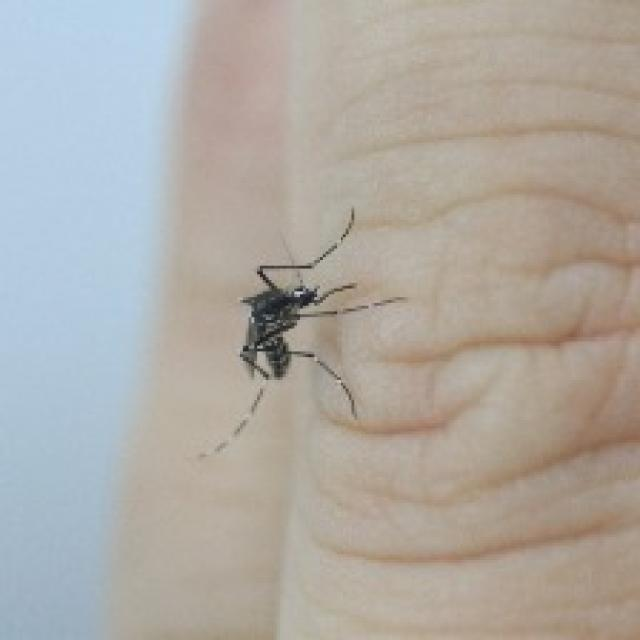aedes: (194, 203, 409, 460)
